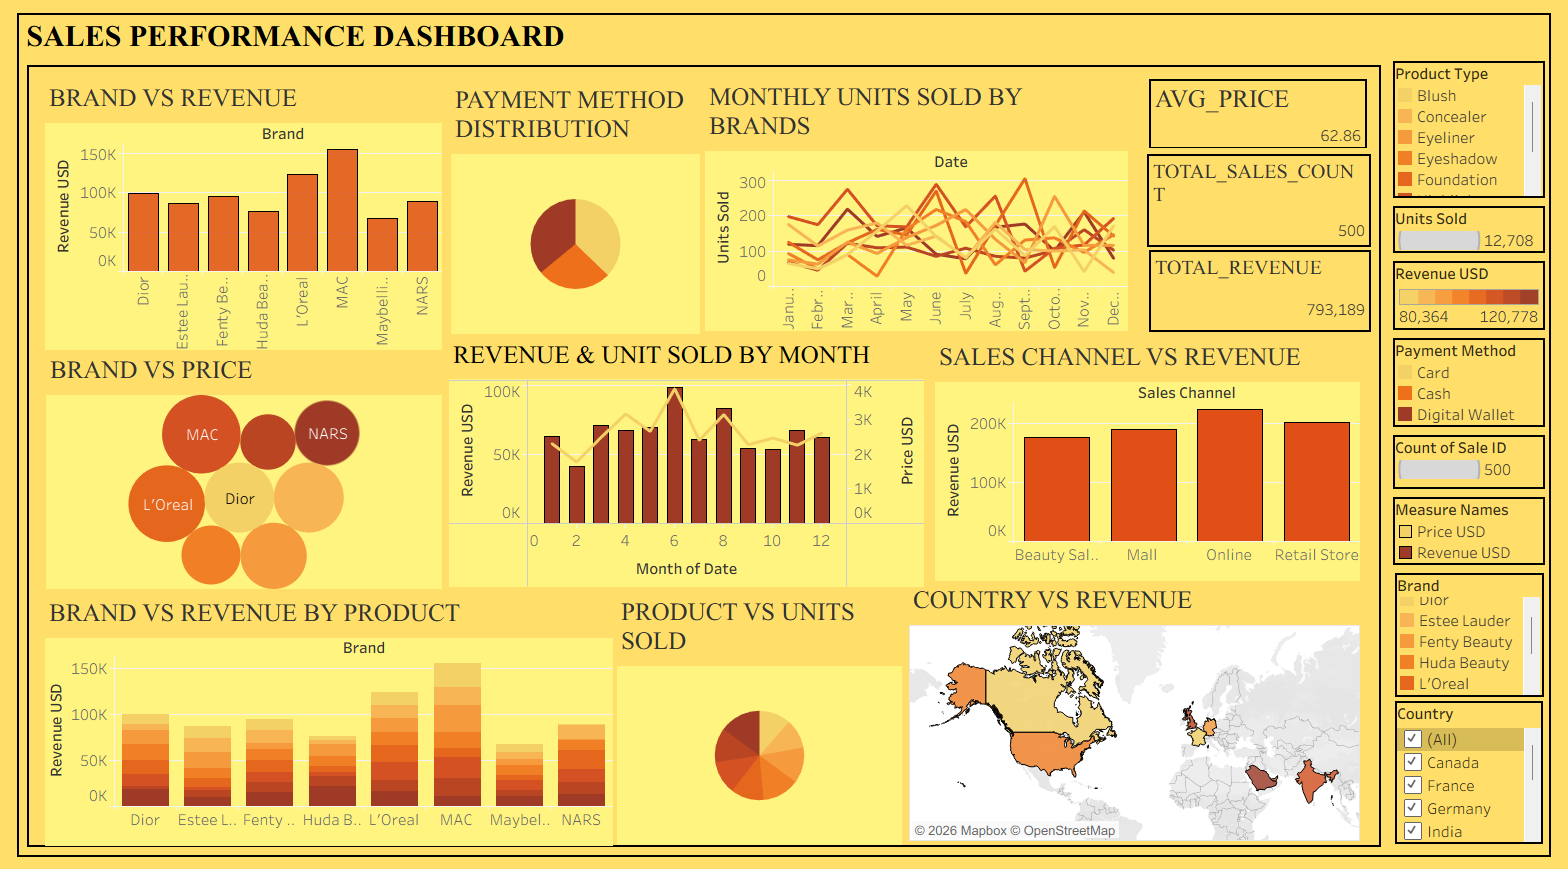

The dashboard page shown, as its layout file describes it:
{"tool":"tableau","page":{"name":"Dashboard","canvas":[1000,1000],"units":"permille","ordinal":0},"visuals":[{"type":"title","box":[6.5,11.7,987.1,49.3]},{"type":"legend","title":"sheet 2","param":"[federated.0xhqvig0fgap6817wu0ta0pvsyg4].[none:Product_Type:nk]","box":[890.3,61,103.2,170.2]},{"type":"worksheet","title":"Sheet 12","mark":"Automatic","rows":["Units_Sold"],"cols":["Date"],"box":[449,85.7,272.9,293.4]},{"type":"worksheet","title":"Sheet 11","mark":"Automatic","box":[735.5,85.7,140.7,81]},{"type":"worksheet","title":"Sheet 1","mark":"Automatic","rows":["Revenue_USD"],"cols":["Brand"],"box":[23.2,86.9,256.1,314.6]},{"type":"worksheet","title":"Sheet 6","mark":"Pie","box":[285.2,89.2,160.7,293.4]},{"type":"worksheet","title":"Sheet 10","mark":"Automatic","box":[734.2,173.7,144.5,108]},{"type":"legend","title":"sheet 2","param":"[federated.0xhqvig0fgap6817wu0ta0pvsyg4].[sum:Units_Sold:qk]","box":[890.3,231.2,103.2,64.5]},{"type":"worksheet","title":"Sheet 9","mark":"Automatic","box":[735.5,285.2,143.2,95.1]},{"type":"legend","title":"Sheet 4","param":"[federated.0xhqvig0fgap6817wu0ta0pvsyg4].[sum:Revenue_USD:qk]","box":[890.3,295.8,103.2,90.4]},{"type":"worksheet","title":"Sheet 8","mark":"Automatic","rows":["Revenue_USD","Price_USD"],"cols":["Date"],"box":[283.9,386.2,307.1,291.1]},{"type":"legend","title":"Sheet 6","param":"[federated.0xhqvig0fgap6817wu0ta0pvsyg4].[none:Payment_Method:nk]","box":[890.3,386.2,103.2,113.9]},{"type":"worksheet","title":"Sheet 5","mark":"Automatic","rows":["Revenue_USD"],"cols":["Sales_Channel"],"box":[597.4,388.5,274.2,281.7]},{"type":"worksheet","title":"Sheet 7","mark":"Circle","box":[23.9,403.8,255.5,275.8]},{"type":"legend","title":"Sheet 6","param":"[federated.0xhqvig0fgap6817wu0ta0pvsyg4].[cnt:Sale_ID:qk]","box":[890.3,500,103.2,72.8]},{"type":"legend","title":"Sheet 8","param":"[federated.0xhqvig0fgap6817wu0ta0pvsyg4].[:Measure Names]","box":[890.3,572.8,103.2,89.2]},{"type":"legend","title":"Sheet 12","param":"[federated.0xhqvig0fgap6817wu0ta0pvsyg4].[none:Brand:nk]","box":[894.2,660.8,96.1,144.4]},{"type":"worksheet","title":"Sheet 4","mark":"Automatic","box":[580.6,671.4,291,301.6]},{"type":"worksheet","title":"sheet 2","mark":"Pie","box":[392.3,685.5,183.9,292.2]},{"type":"worksheet","title":"Sheet 3","mark":"Automatic","rows":["Revenue_USD"],"cols":["Brand"],"box":[23.2,686.6,366.4,292.2]},{"type":"filter","title":"Sheet 4","param":"[federated.0xhqvig0fgap6817wu0ta0pvsyg4].[none:Country:nk]","box":[894.2,809.9,95.5,166.7]}]}

Visuals, with their boxes on the dashboard's canvas, which has no fixed pixel size, in thousandths of its width and height (x1, y1, x2, y2). These are canvas units, not pixel positions in the 1568x869 screenshot, which may show the page scaled, cropped or inside an application window:
title: detection(6, 12, 994, 61)
"sheet 2" legend: detection(890, 61, 994, 231)
"Sheet 12" worksheet: detection(449, 86, 722, 379)
"Sheet 11" worksheet: detection(736, 86, 876, 167)
"Sheet 1" worksheet: detection(23, 87, 279, 402)
"Sheet 6" worksheet (Pie marks): detection(285, 89, 446, 383)
"Sheet 10" worksheet: detection(734, 174, 879, 282)
"sheet 2" legend: detection(890, 231, 994, 296)
"Sheet 9" worksheet: detection(736, 285, 879, 380)
"Sheet 4" legend: detection(890, 296, 994, 386)
"Sheet 8" worksheet: detection(284, 386, 591, 677)
"Sheet 6" legend: detection(890, 386, 994, 500)
"Sheet 5" worksheet: detection(597, 388, 872, 670)
"Sheet 7" worksheet (Circle marks): detection(24, 404, 279, 680)
"Sheet 6" legend: detection(890, 500, 994, 573)
"Sheet 8" legend: detection(890, 573, 994, 662)
"Sheet 12" legend: detection(894, 661, 990, 805)
"Sheet 4" worksheet: detection(581, 671, 872, 973)
"sheet 2" worksheet (Pie marks): detection(392, 686, 576, 978)
"Sheet 3" worksheet: detection(23, 687, 390, 979)
"Sheet 4" filter: detection(894, 810, 990, 977)
